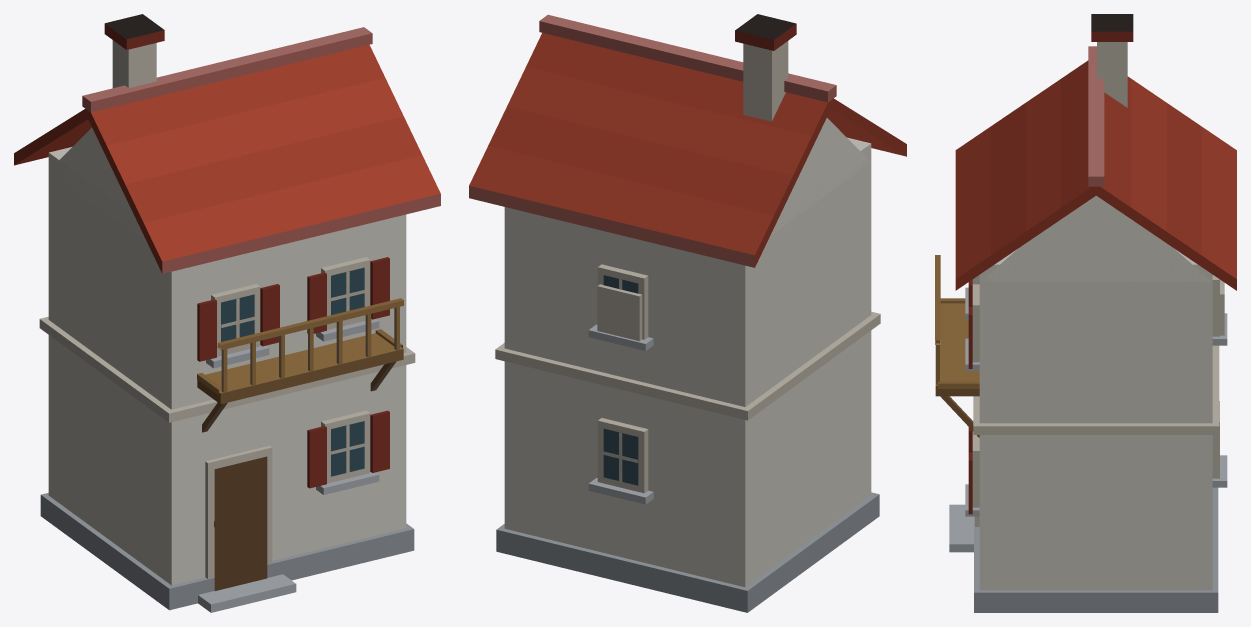
The model's file is house_white_c.glb.
3 renders of one model, left to right at view 1: azimuth 30°, elevation 25°; view 2: azimuth 150°, elevation 25°; view 3: azimuth 270°, elevation 25°, orthographic. The views are drawn at different scales.
Parts seen in each view (by area): view 1: house_white_c; view 2: house_white_c; view 3: house_white_c.
Boxes of the visible parts, left/top/right/bottom form: house_white_c: left=14, top=14, right=440, bottom=612; house_white_c: left=469, top=14, right=906, bottom=612; house_white_c: left=935, top=14, right=1236, bottom=612.
Bounding box in the file's own units: 3.84 × 6.79 × 3.76.
